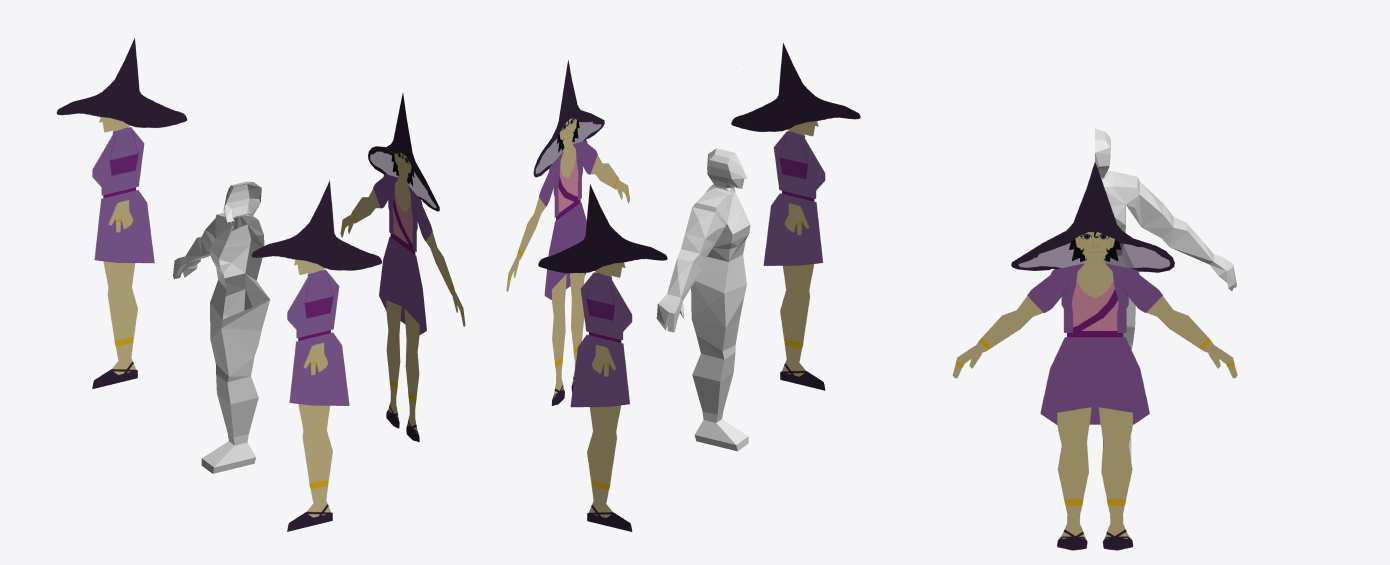
File: BWitchPlayerModelBase.glb
3 views of the same model, side by side, from view 1: azimuth 30°, elevation 25°; view 2: azimuth 150°, elevation 25°; view 3: azimuth 270°, elevation 25° (orthographic). The views are drawn at different scales.
Visible parts, largest first — view 1: BSide1, BSide2, Body, BWitchFront; view 2: Body, BSide2, BSide1, BWitchFront; view 3: BWitchFront, Body.
Boxes of the visible parts, x1=… form: BSide1: x1=251, y1=180, x2=381, y2=531; BSide2: x1=56, y1=38, x2=187, y2=388; Body: x1=173, y1=181, x2=270, y2=473; BWitchFront: x1=340, y1=93, x2=465, y2=441; Body: x1=656, y1=148, x2=750, y2=451; BSide2: x1=538, y1=184, x2=667, y2=531; BSide1: x1=731, y1=43, x2=860, y2=390; BWitchFront: x1=506, y1=60, x2=630, y2=405; BWitchFront: x1=952, y1=162, x2=1237, y2=550; Body: x1=1095, y1=128, x2=1236, y2=460.
Size of the model in its own units: 5.6 by 6.87 by 7.11.
Materials: 4 (3 with a texture image).
